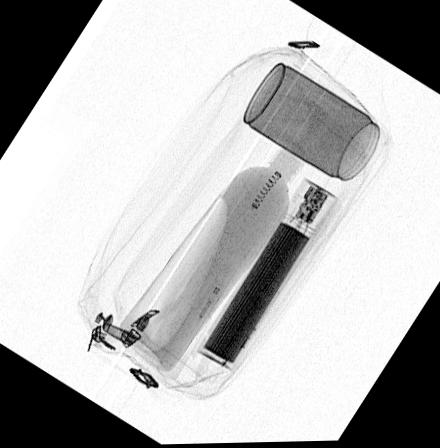Powerbank: (194, 178, 338, 372)
